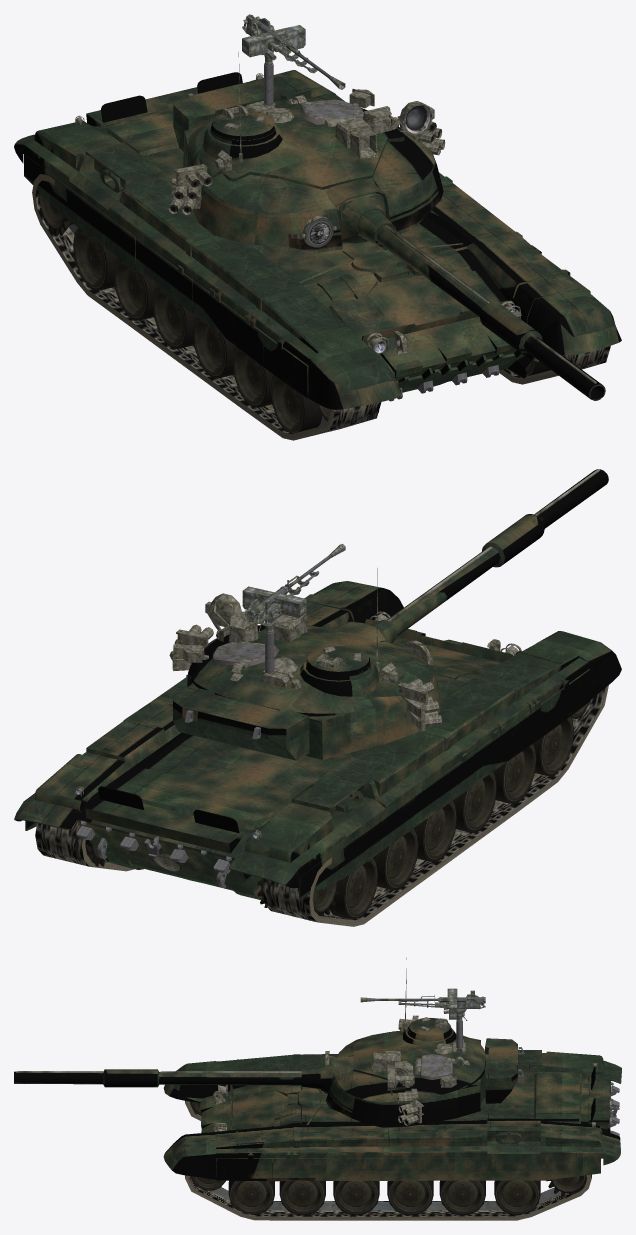
File: Tank_1.FBX
3 renders of one model, top to bottom at view 1: azimuth 30°, elevation 25°; view 2: azimuth 150°, elevation 25°; view 3: azimuth 270°, elevation 25°, orthographic. The views are drawn at different scales.
Visible parts, largest first — view 1: Body_B, Body_T, Body_Fire, Wheel, Gun, Wheel_2, Wheel_7, Wheel_5, Wheel_6, Wheel_4, Wheel_3, Wheel_8; view 2: Body_B, Body_T, Wheel, Body_Fire, Gun, Wheel_7, Wheel_6, Wheel_4, Wheel_5, Wheel_3, Wheel_2, Wheel_8; view 3: Body_B, Body_T, Body_Fire, Wheel, Wheel_6, Wheel_7, Wheel_5, Wheel_4, Wheel_3, Wheel_2, Gun, Wheel_8 (+1 smaller).
Part boxes in pixels (left/top/right/bottom): Body_B: left=14, top=70, right=621, bottom=412; Body_T: left=168, top=52, right=445, bottom=252; Body_Fire: left=334, top=193, right=605, bottom=400; Wheel: left=32, top=174, right=610, bottom=440; Gun: left=242, top=14, right=345, bottom=89; Wheel_2: left=270, top=360, right=550, bottom=433; Wheel_7: left=73, top=228, right=118, bottom=290; Wheel_5: left=152, top=287, right=196, bottom=349; Wheel_6: left=113, top=258, right=156, bottom=320; Wheel_4: left=193, top=316, right=236, bottom=378; Wheel_3: left=232, top=346, right=273, bottom=407; Wheel_8: left=38, top=191, right=72, bottom=236; Body_B: left=14, top=581, right=621, bottom=899; Body_T: left=169, top=568, right=442, bottom=760; Wheel: left=35, top=685, right=608, bottom=926; Body_Fire: left=370, top=469, right=608, bottom=643; Gun: left=242, top=544, right=345, bottom=633; Wheel_7: left=329, top=857, right=377, bottom=919; Wheel_6: left=373, top=828, right=418, bottom=890; Wheel_4: left=453, top=772, right=496, bottom=833; Wheel_5: left=414, top=801, right=456, bottom=862; Wheel_3: left=493, top=744, right=536, bottom=804; Wheel_2: left=533, top=716, right=573, bottom=776; Wheel_8: left=85, top=840, right=341, bottom=916; Body_B: left=163, top=1050, right=621, bottom=1181; Body_T: left=325, top=957, right=524, bottom=1127; Body_Fire: left=14, top=1064, right=340, bottom=1094; Wheel: left=185, top=1101, right=591, bottom=1220; Wheel_6: left=439, top=1180, right=485, bottom=1215; Wheel_7: left=494, top=1180, right=540, bottom=1215; Wheel_5: left=387, top=1180, right=433, bottom=1215; Wheel_4: left=333, top=1180, right=379, bottom=1215; Wheel_3: left=279, top=1181, right=325, bottom=1215; Wheel_2: left=228, top=1173, right=274, bottom=1215; Gun: left=360, top=988, right=485, bottom=1021; Wheel_8: left=546, top=1175, right=586, bottom=1196.
Size of the model in its own units: 128 by 123 by 344.
